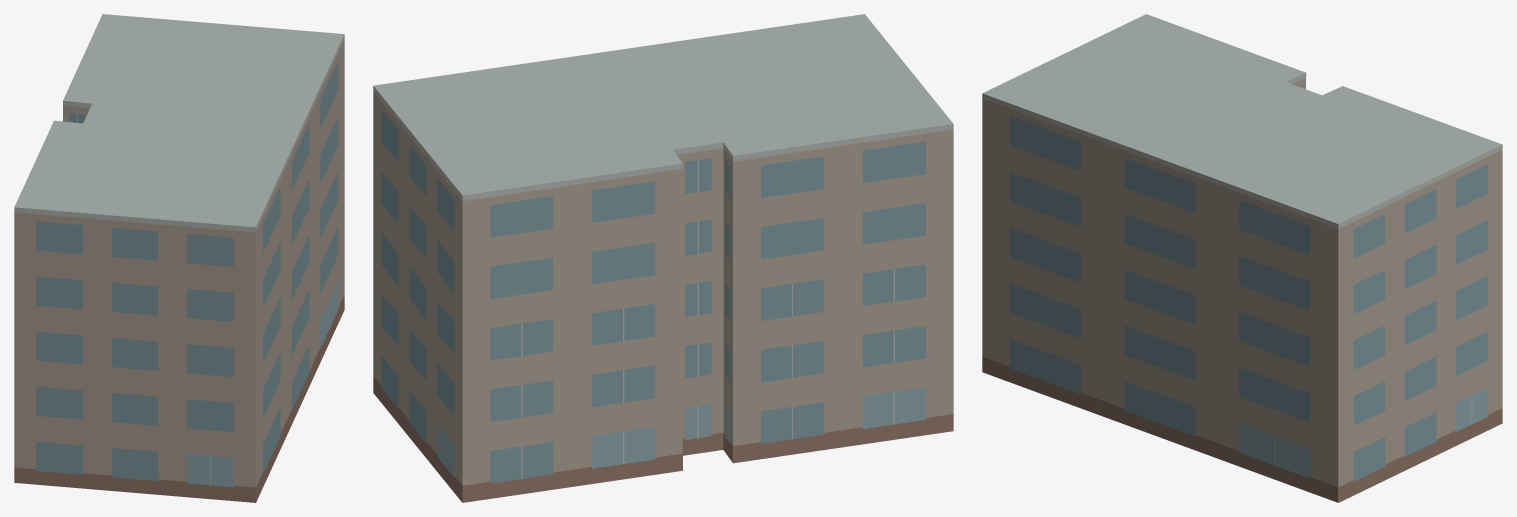
The model's file is survey-upis-32492377.glb.
3 views of the same model, side by side, from view 1: azimuth 30°, elevation 25°; view 2: azimuth 150°, elevation 25°; view 3: azimuth 270°, elevation 25° (orthographic). The views are drawn at different scales.
Parts seen in each view (by area): view 1: survey-upis-32492377.tmp; view 2: survey-upis-32492377.tmp; view 3: survey-upis-32492377.tmp.
Boxes of the visible parts, bbox=[...] form: survey-upis-32492377.tmp: bbox=[14, 14, 344, 502]; survey-upis-32492377.tmp: bbox=[373, 14, 953, 502]; survey-upis-32492377.tmp: bbox=[982, 14, 1502, 502].
Size of the model in its own units: 21.66 by 13.4 by 22.67.
